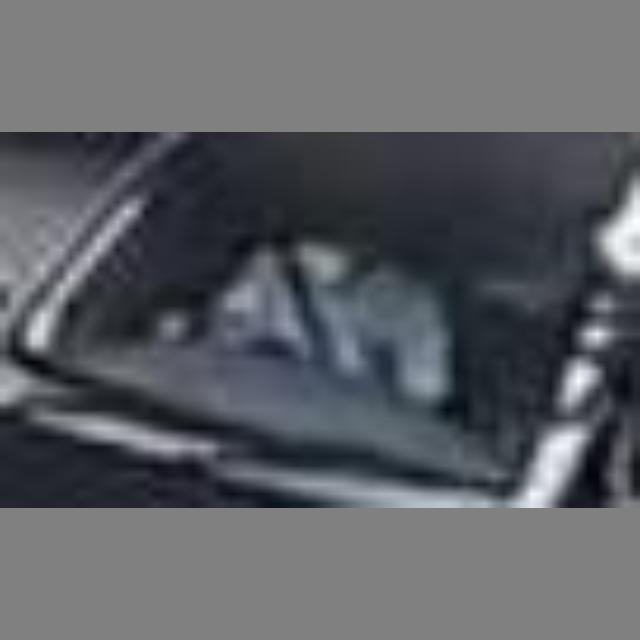pakai: (207, 198, 424, 433)
